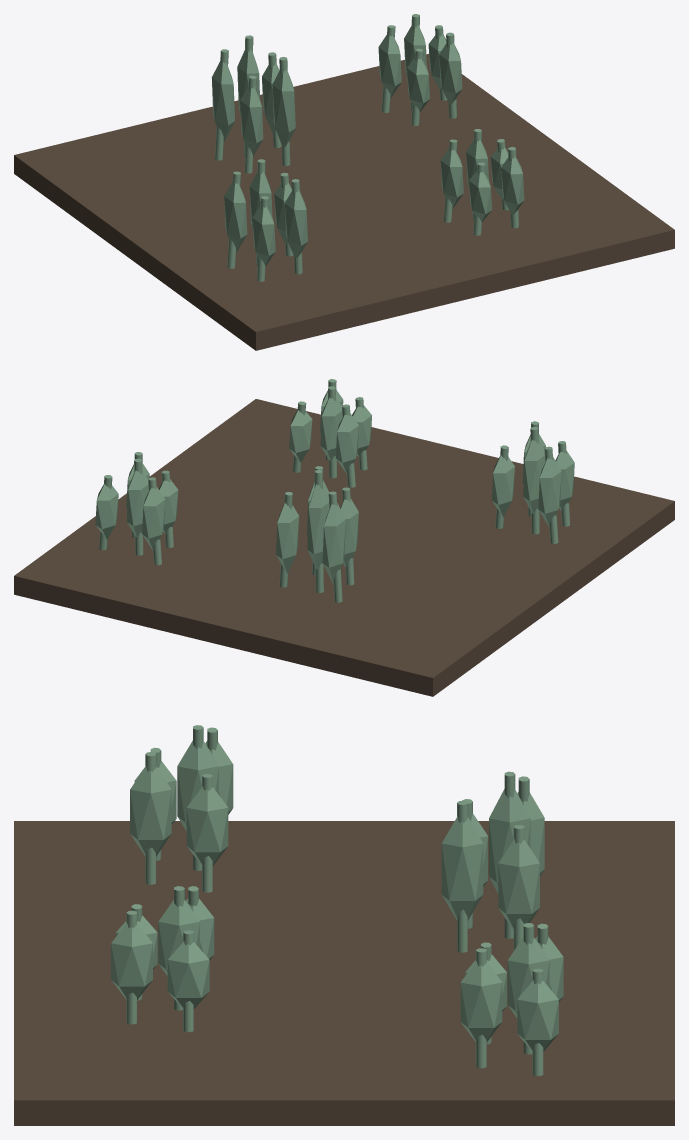
File: vegetation_reeds.glb
3 renders of one model, top to bottom at view 1: azimuth 30°, elevation 25°; view 2: azimuth 150°, elevation 25°; view 3: azimuth 270°, elevation 25°, orthographic. The views are drawn at different scales.
Parts seen in each view (by area): view 1: vegetation_reeds soil, vegetation_reeds leaf, vegetation_reeds pine; view 2: vegetation_reeds soil, vegetation_reeds leaf, vegetation_reeds pine; view 3: vegetation_reeds soil, vegetation_reeds leaf, vegetation_reeds pine.
Part boxes in pixels (bbox=[...]): vegetation_reeds soil: bbox=[14, 54, 674, 350]; vegetation_reeds leaf: bbox=[211, 25, 524, 266]; vegetation_reeds pine: bbox=[215, 14, 518, 281]; vegetation_reeds soil: bbox=[14, 399, 674, 696]; vegetation_reeds leaf: bbox=[95, 390, 574, 584]; vegetation_reeds pine: bbox=[99, 379, 570, 602]; vegetation_reeds soil: bbox=[14, 821, 674, 1125]; vegetation_reeds leaf: bbox=[111, 740, 563, 1051]; vegetation_reeds pine: bbox=[126, 725, 548, 1076].
Size of the model in its own units: 0.7 by 0.221 by 0.7.
